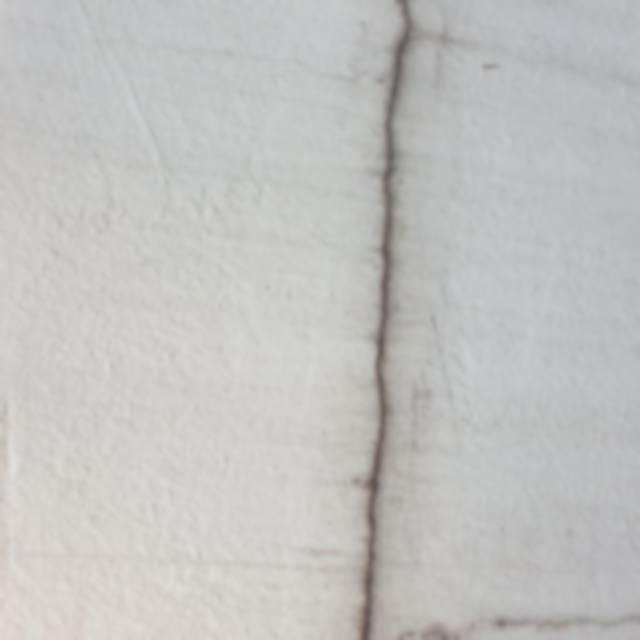SurfaceCrack: (321, 0, 447, 560)
